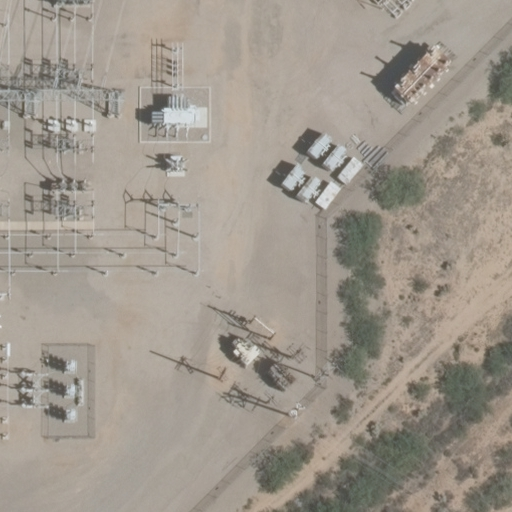DT: (250, 317, 277, 340), (310, 358, 331, 387), (285, 342, 310, 366), (283, 401, 306, 421), (213, 358, 230, 382)
